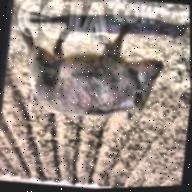boar: (8, 7, 171, 130)
